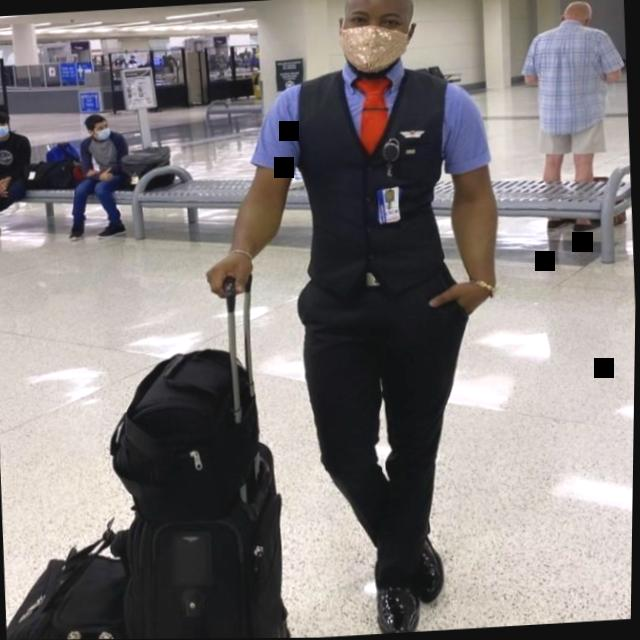Mask: (337, 0, 411, 76), (89, 120, 113, 143), (0, 120, 15, 139)
